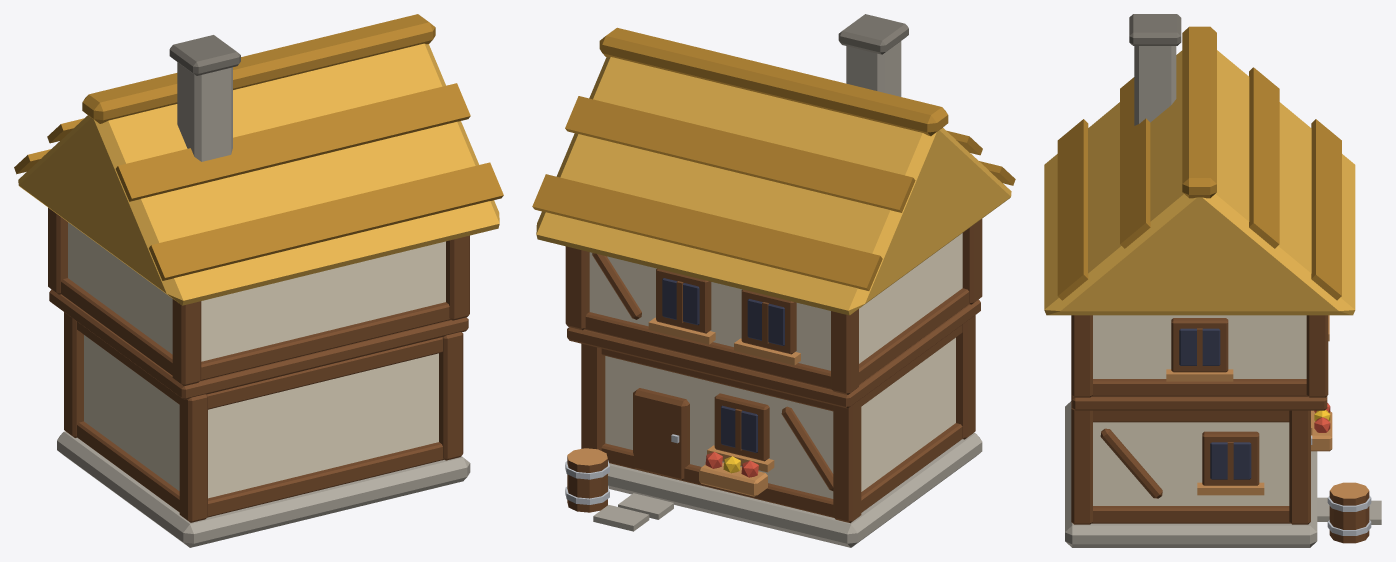
File: house_l2.fbx
The picture shows the model from 3 angles, left to right: view 1: azimuth 30°, elevation 25°; view 2: azimuth 150°, elevation 25°; view 3: azimuth 270°, elevation 25°; orthographic projection. The views are drawn at different scales.
Parts seen in each view (by area): view 1: house_l2; view 2: house_l2; view 3: house_l2.
Boxes of the visible parts, x1=… form: house_l2: x1=14, y1=14, x2=503, y2=547; house_l2: x1=532, y1=14, x2=1015, y2=547; house_l2: x1=1044, y1=14, x2=1381, y2=547.
Size of the model in its own units: 0.9 by 1.14 by 0.8181.
